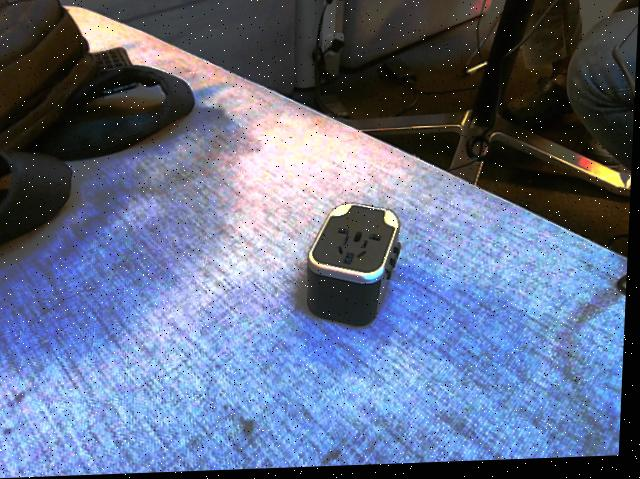adapter: (306, 204, 404, 331)
